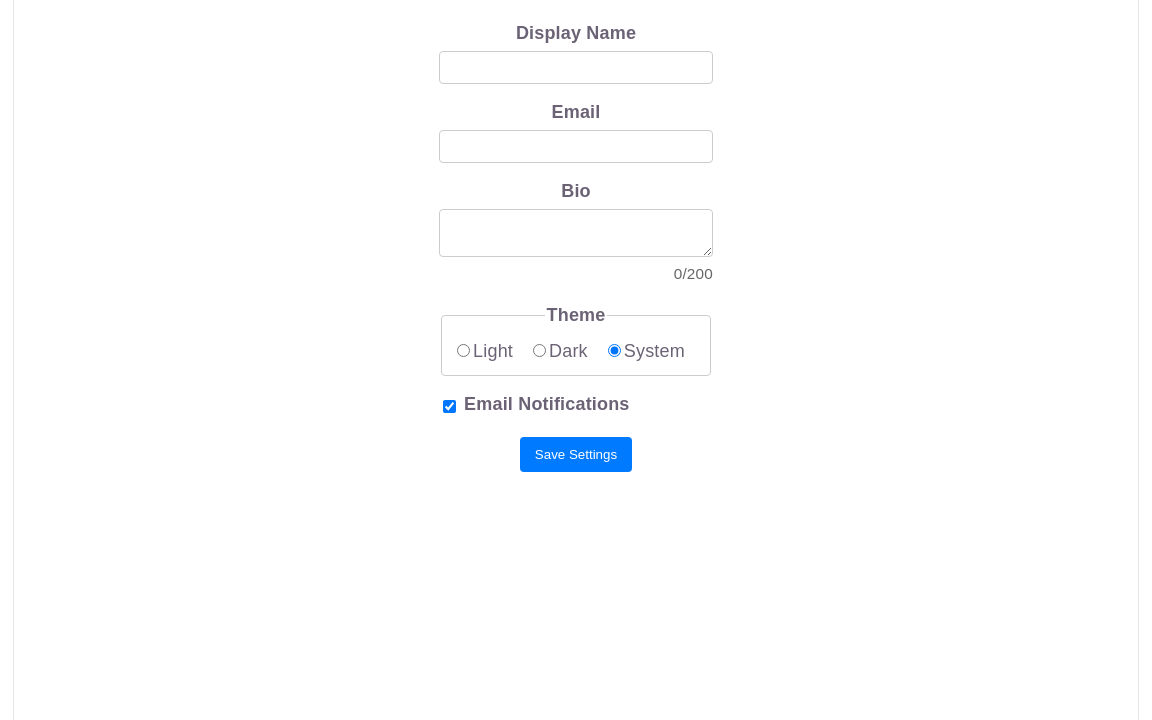
Test: SettingsForm › shows error when Display Name is too short
The image size is (1152, 720).
Type "A" into the field labelled "Display Name". click: (576, 68)
box: [439,51,713,84]
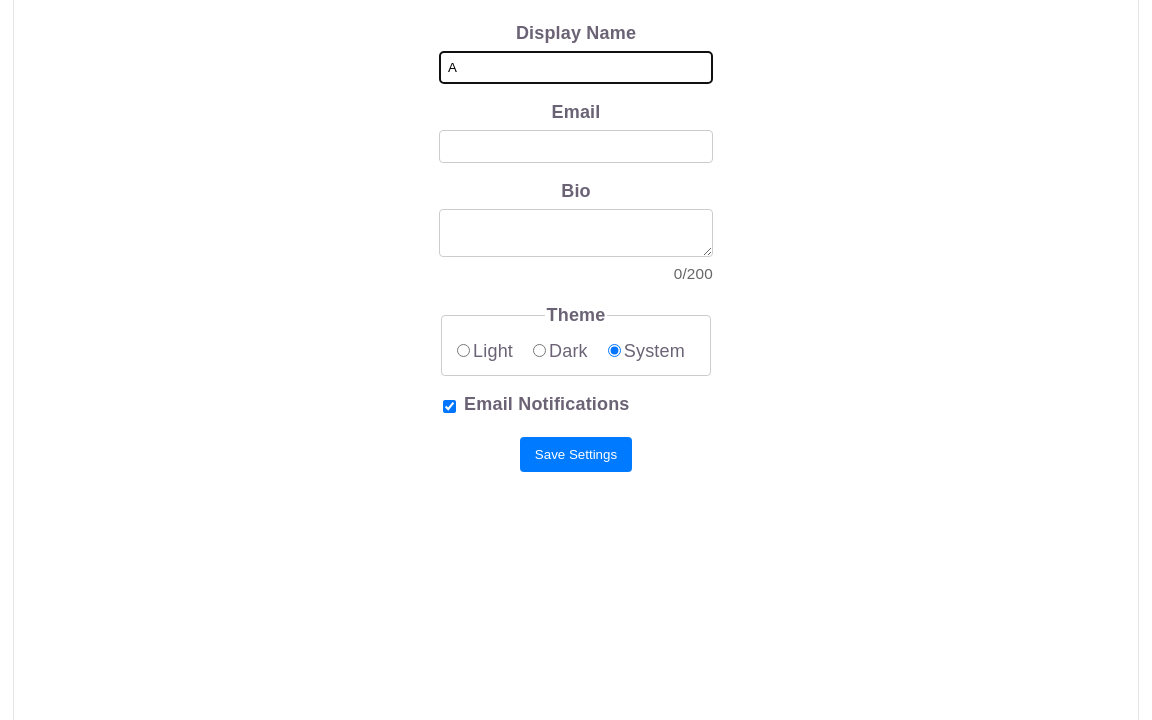
Click the button "Save Settings". click: (576, 454)
box: [520,437,632,472]
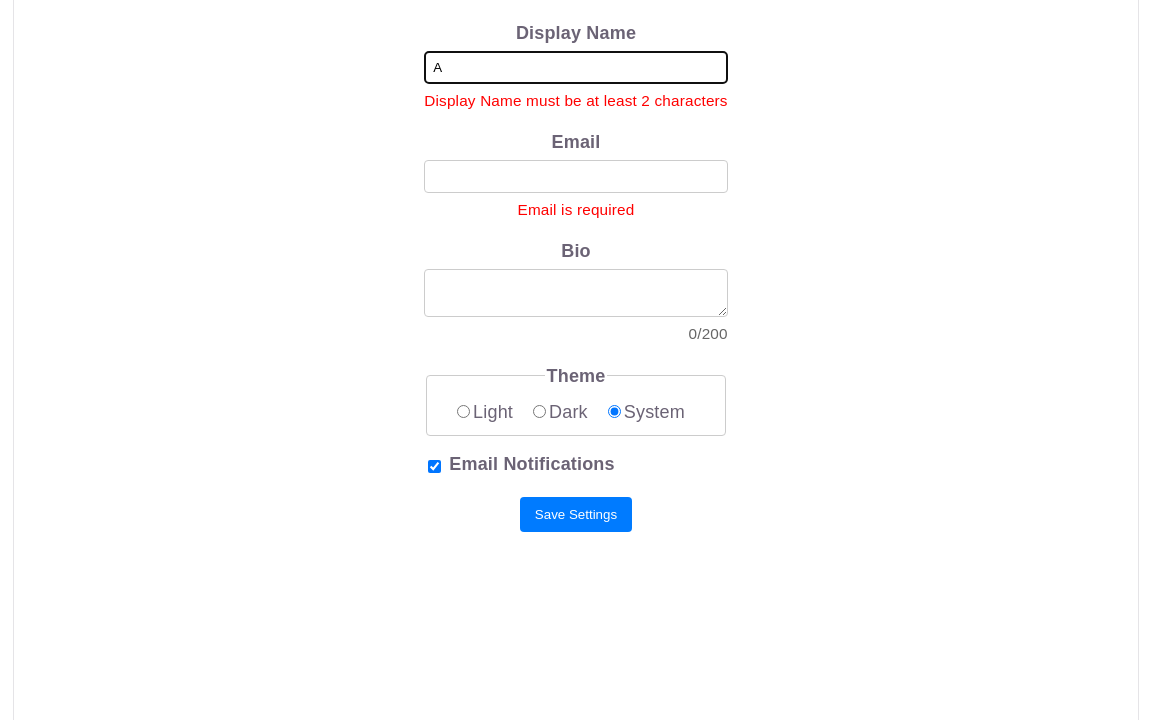
Check: the text "Display Name must be at least 2 characters" is shown, box [424,88,728,114]
